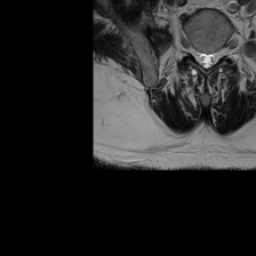CCS_normal: (203, 47, 209, 75)
LFS_normal: (217, 41, 224, 64)
LLS_normal: (209, 47, 216, 69)
RFS_normal: (190, 40, 197, 65)
RLS_normal: (196, 45, 203, 69)
